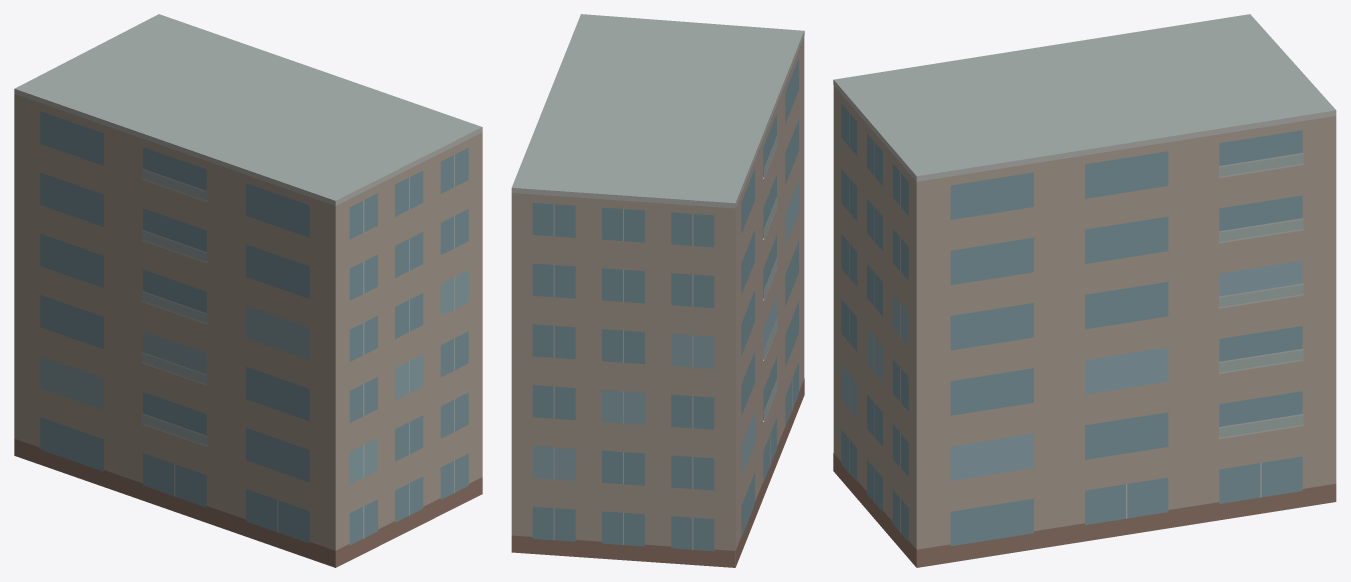
Rendered from survey-upis-32538641.glb.
3 views of the same model, side by side, from view 1: azimuth 30°, elevation 25°; view 2: azimuth 150°, elevation 25°; view 3: azimuth 270°, elevation 25° (orthographic). The views are drawn at different scales.
Parts seen in each view (by area): view 1: survey-upis-32538641.tmp; view 2: survey-upis-32538641.tmp; view 3: survey-upis-32538641.tmp.
Boxes of the visible parts, bbox=[...] form: survey-upis-32538641.tmp: bbox=[14, 14, 482, 567]; survey-upis-32538641.tmp: bbox=[511, 14, 804, 567]; survey-upis-32538641.tmp: bbox=[833, 14, 1336, 567].
Bounding box in the file's own units: 15.39 × 17.3 × 20.15.
